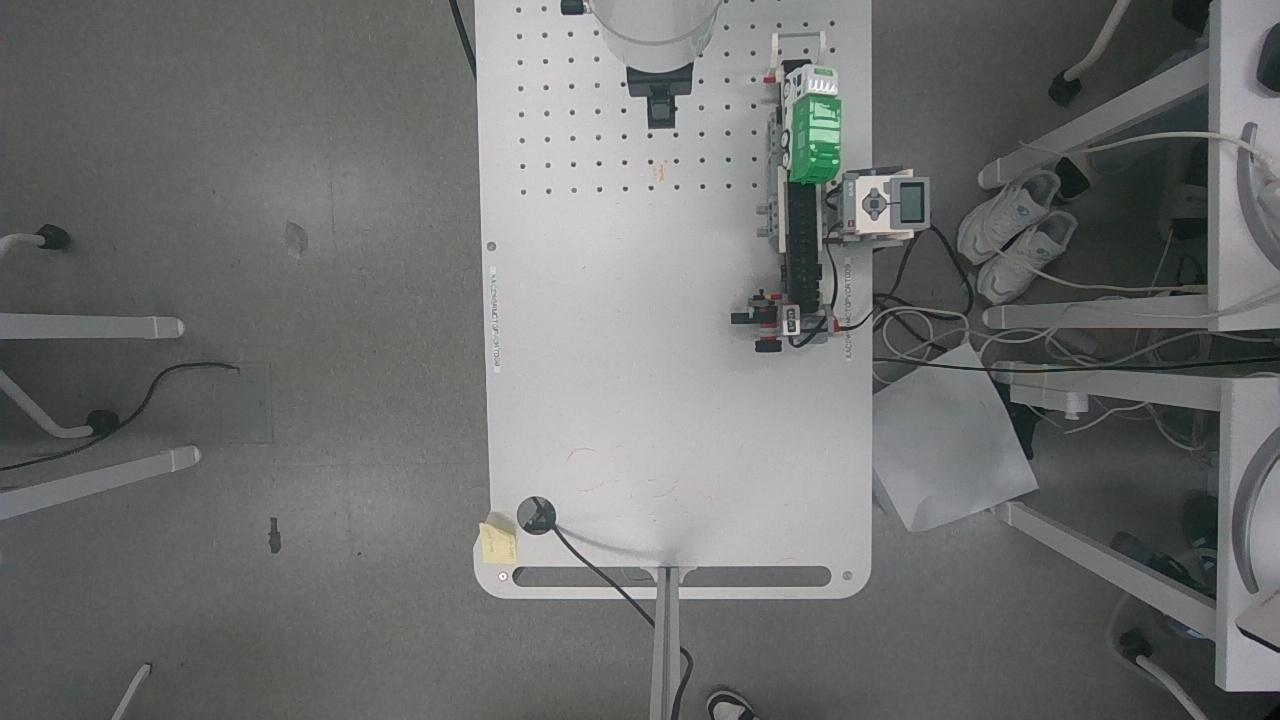truck: (772, 59, 854, 198)
